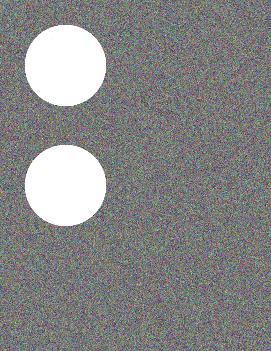B: (21, 14, 256, 337)
